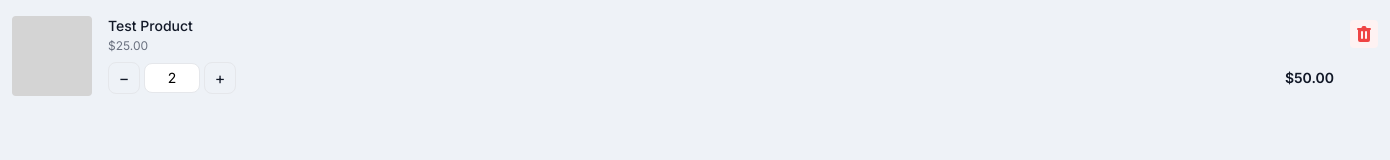
Test: CartLineItem › typing 0 and blurring reverts spinbutton to previous cart quantity
Replace the text in the number field with "0" at (172,78), box [144, 63, 200, 93]
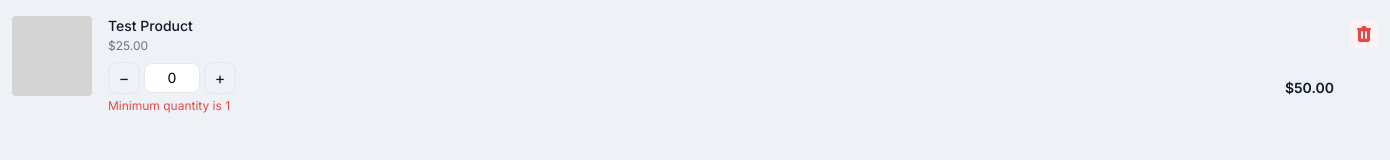
Leave the number field, box [144, 63, 200, 93]
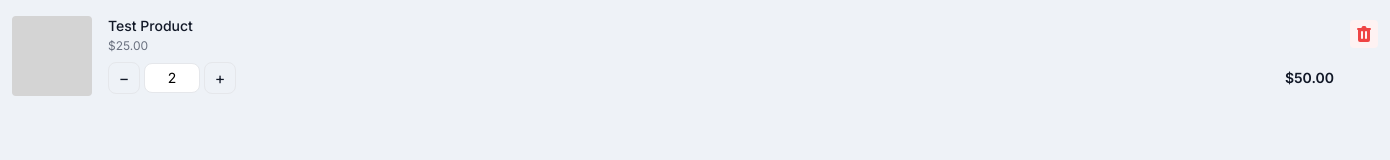
Expected: the number field holds "2", [144, 63, 200, 93]
